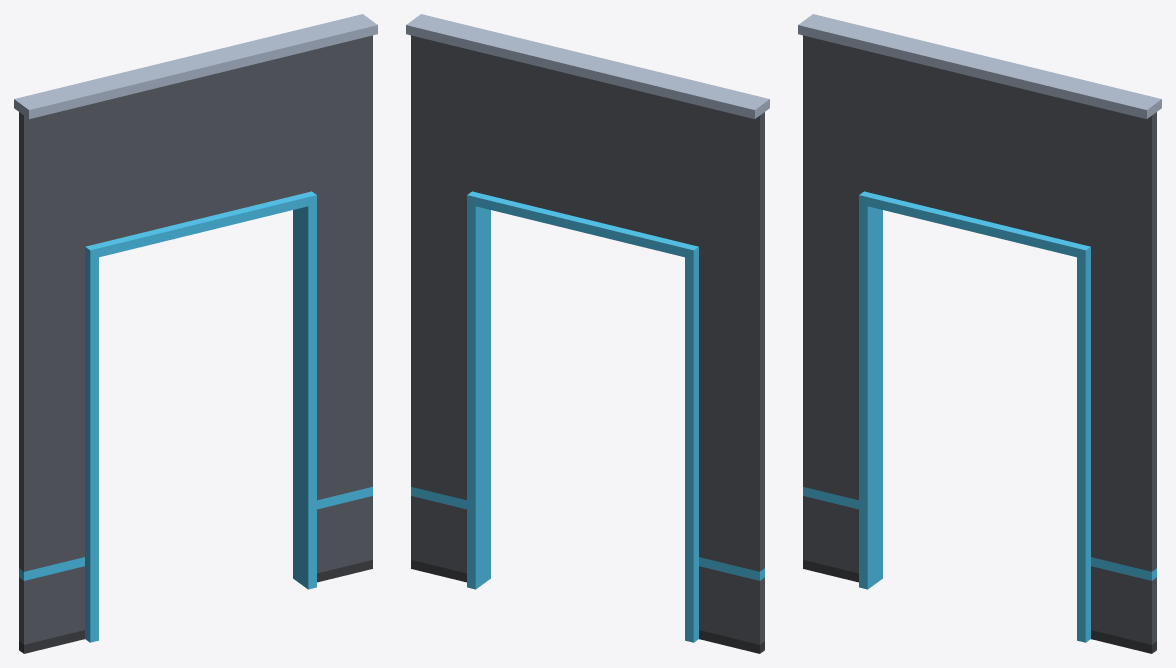
The model's file is wall-blue-frame.obj.
3 renders of one model, left to right at view 1: azimuth 30°, elevation 25°; view 2: azimuth 150°, elevation 25°; view 3: azimuth 330°, elevation 25°, orthographic.
Size of the model in its own units: 4 by 6 by 0.3.
Materials: 1 (1 with a texture image).
